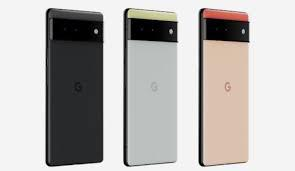Smartphone: (45, 7, 106, 168), (196, 9, 258, 166), (123, 7, 182, 168)
